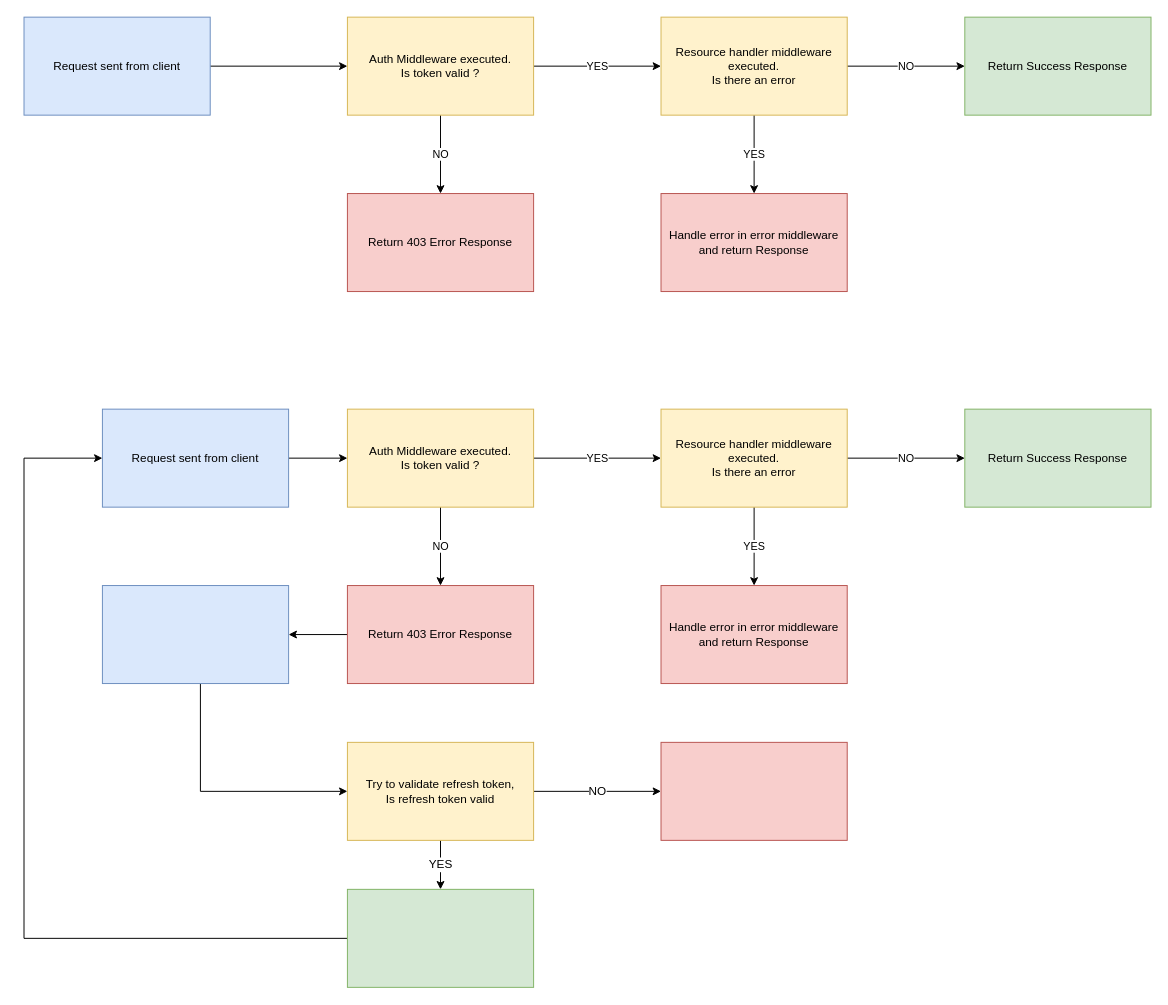
The diagram is 1168 pixels wide and 1005 high, and some of its shapes have lost their labels. Each missing label, with the centre of its shape:
"403 Recieved, Send refresh access token request" goes at point 195,634.
"Return 403 Error Response User must login again" goes at point 753,790.
"Return new access token and refresh token" goes at point 440,937.
